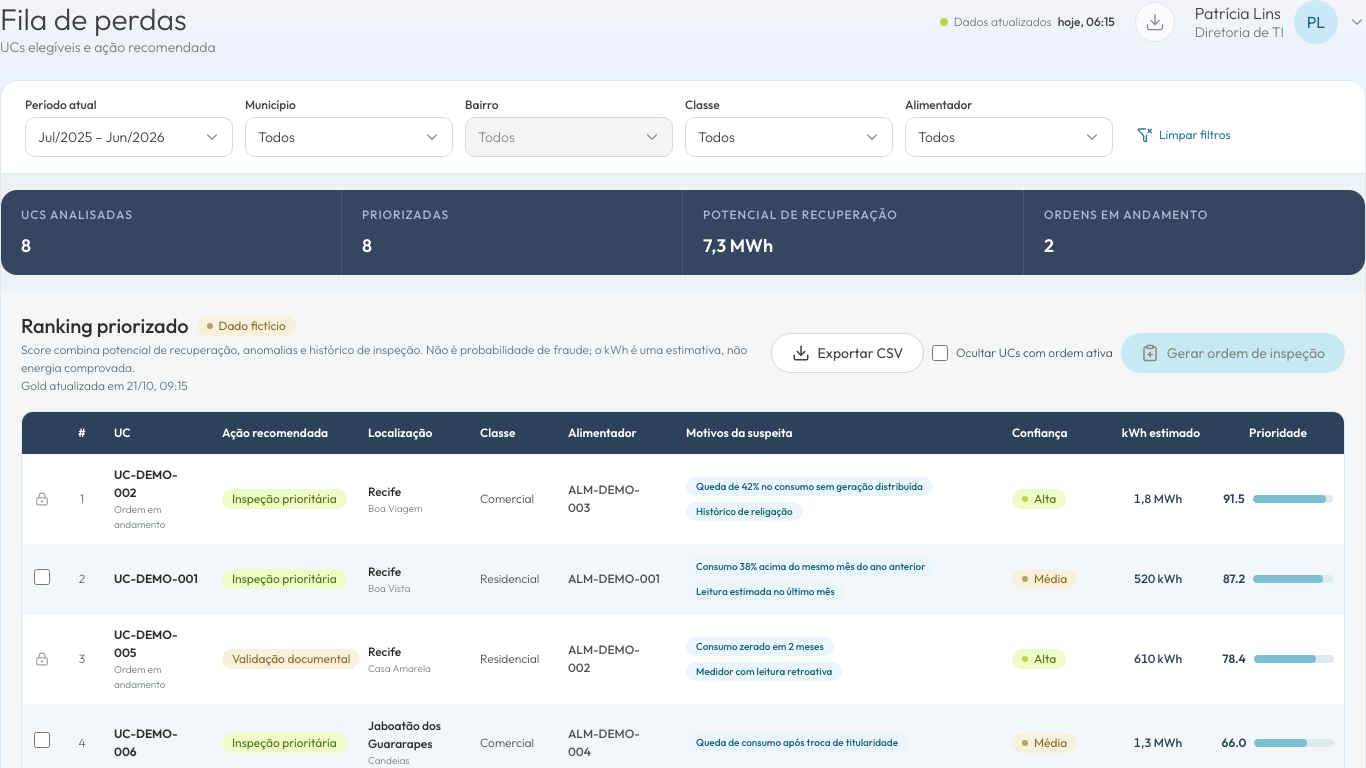
it: FilaPage › exporta todos os candidatos filtrados em páginas e identifica os dados mockados
Check: the text "UC-DEMO-001" is shown, box [114,570,198,588]
Check: the column heading "Alimentador" is shown, box [556,412,674,454]
Click the button "Exportar CSV" at (847, 353), box [771,333,924,373]
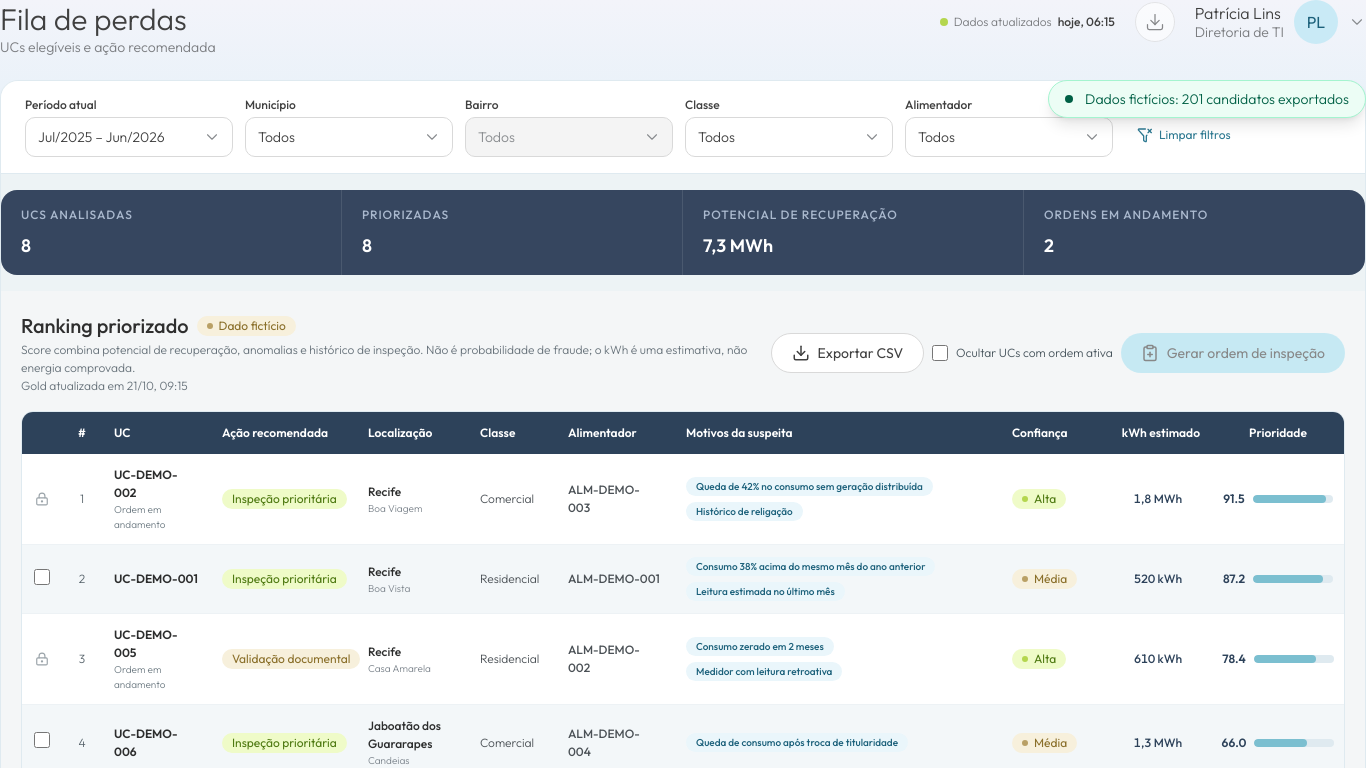
Check: the text "Dados fictícios: 201 candidatos exportados" is shown, box [1048,80,1365,118]
